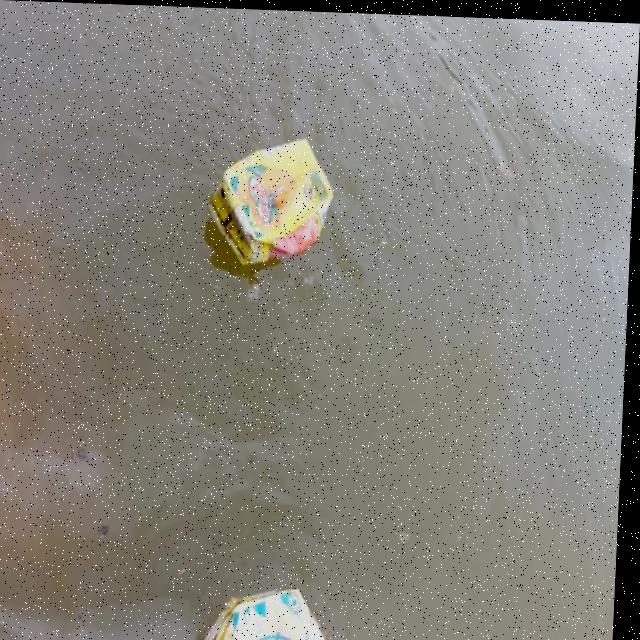paper: (191, 131, 334, 281), (194, 581, 366, 640)
